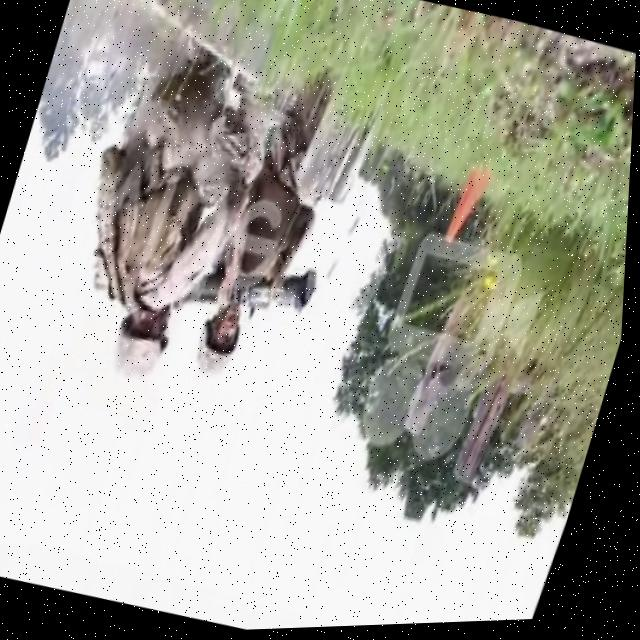rocket: (174, 236, 325, 349)
